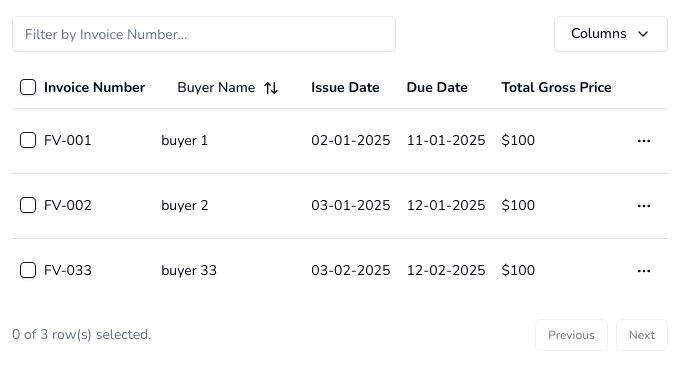
Test case: InvoicesTable › filters by invoice number
The width and height of the screenshot is (685, 368).
Step 1. Type "FV-033" into the field with placeholder "Filter by Invoice Number..." → x=204, y=34, box [12,16,396,52]
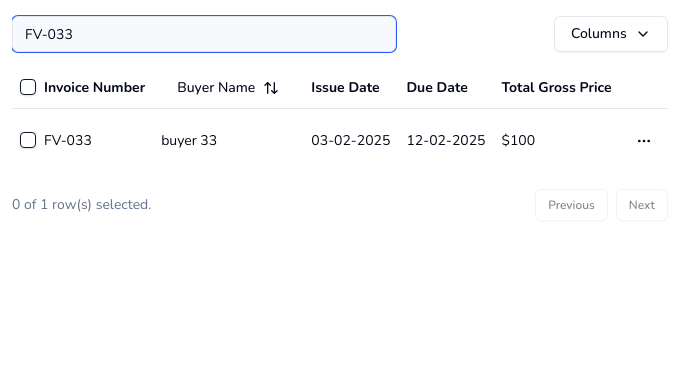
expect the text "FV-033" is shown: met, box [44,130,92,150]
expect the text "FV-001" is gone: met
